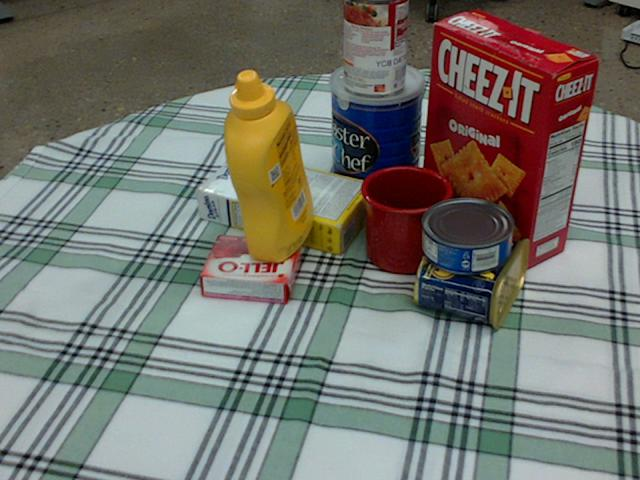cracker_box: (420, 9, 601, 266)
gelatin_box: (200, 236, 303, 304)
master_chef_can: (329, 60, 424, 211)
mug: (361, 165, 454, 274)
mustard_bottle: (223, 69, 312, 262)
potted_meat_can: (415, 219, 531, 325)
sugar_box: (193, 150, 374, 254)
tomato_soup_can: (344, 0, 409, 96)
tuna_fish_can: (421, 198, 513, 273)
